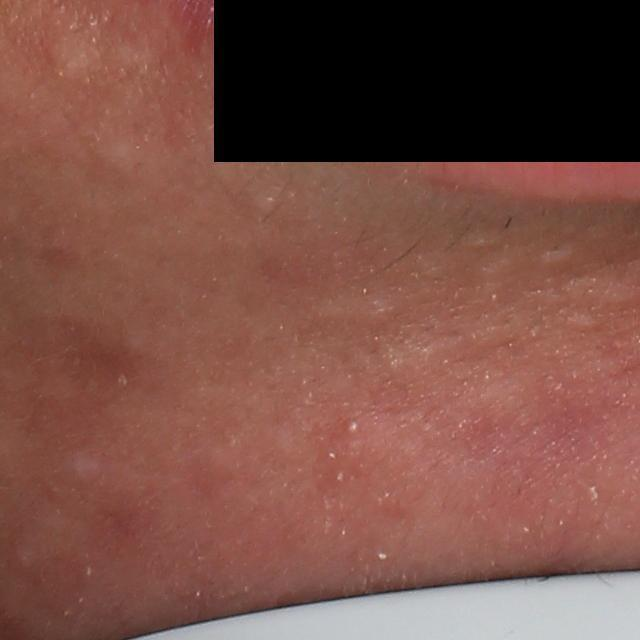comedo: (250, 191, 288, 219), (337, 412, 368, 444)
hypertrophic_scar: (6, 508, 83, 569), (81, 119, 148, 187), (47, 27, 109, 91), (63, 439, 104, 492), (467, 253, 521, 281), (537, 240, 582, 266), (455, 232, 507, 253)
